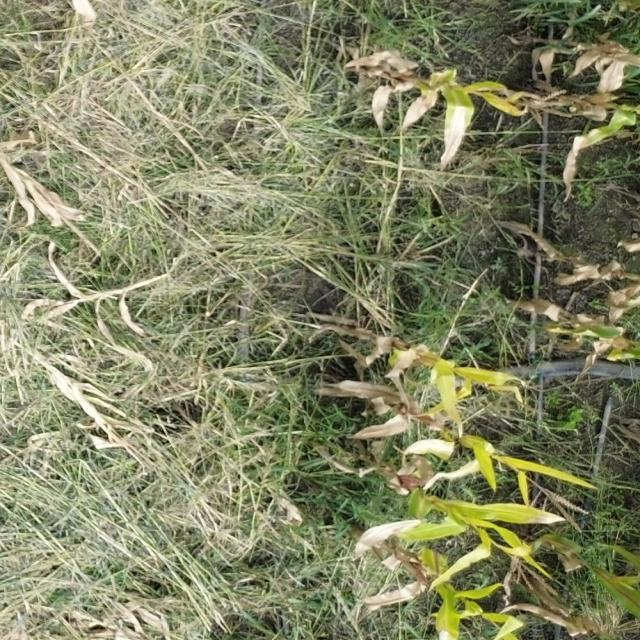northern-leaf-blight: (422, 82, 490, 170), (450, 490, 555, 531)
